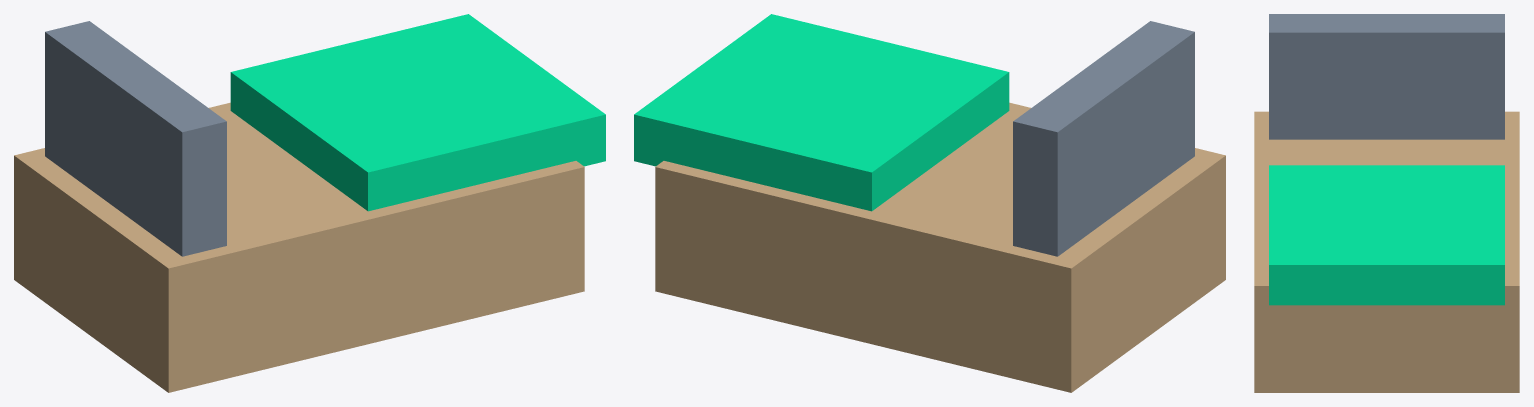
File: crop_water_duty_delta_canal_design.glb
3 views of the same model, side by side, from view 1: azimuth 30°, elevation 25°; view 2: azimuth 150°, elevation 25°; view 3: azimuth 270°, elevation 25° (orthographic). The views are drawn at different scales.
Visible parts, largest first — view 1: TrapezoidalIrrigationCanalPrism, AgriculturalCultivatedCropField, AdjustableCanalHeadRegulatorGate; view 2: TrapezoidalIrrigationCanalPrism, AgriculturalCultivatedCropField, AdjustableCanalHeadRegulatorGate; view 3: TrapezoidalIrrigationCanalPrism, AgriculturalCultivatedCropField, AdjustableCanalHeadRegulatorGate.
Boxes of the visible parts, x1,y1,x2,y2 form: TrapezoidalIrrigationCanalPrism: (14,102,584,392); AgriculturalCultivatedCropField: (230,14,605,211); AdjustableCanalHeadRegulatorGate: (45,21,226,256); TrapezoidalIrrigationCanalPrism: (655,102,1225,392); AgriculturalCultivatedCropField: (634,14,1009,211); AdjustableCanalHeadRegulatorGate: (1013,21,1194,256); TrapezoidalIrrigationCanalPrism: (1254,111,1519,392); AgriculturalCultivatedCropField: (1269,165,1504,305); AdjustableCanalHeadRegulatorGate: (1269,14,1504,139).
Size of the model in its own units: 1.5 by 0.8 by 0.9.
